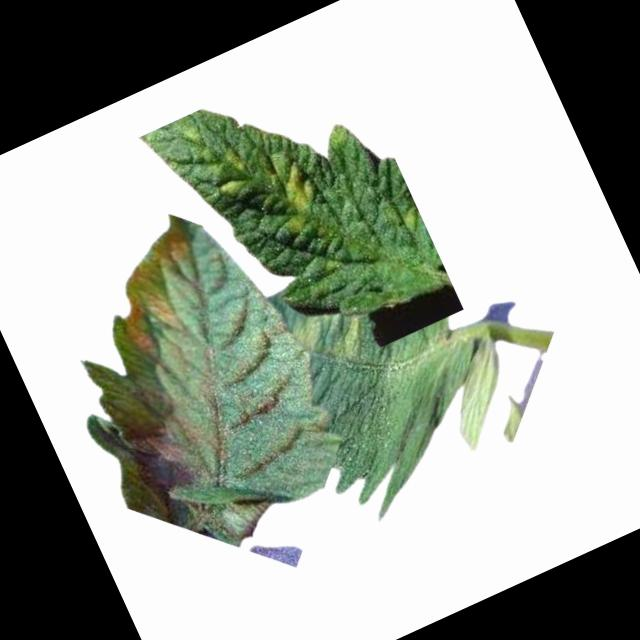Leaf_Mold: (86, 218, 230, 371), (254, 147, 332, 242), (285, 296, 373, 379), (200, 136, 262, 206)
